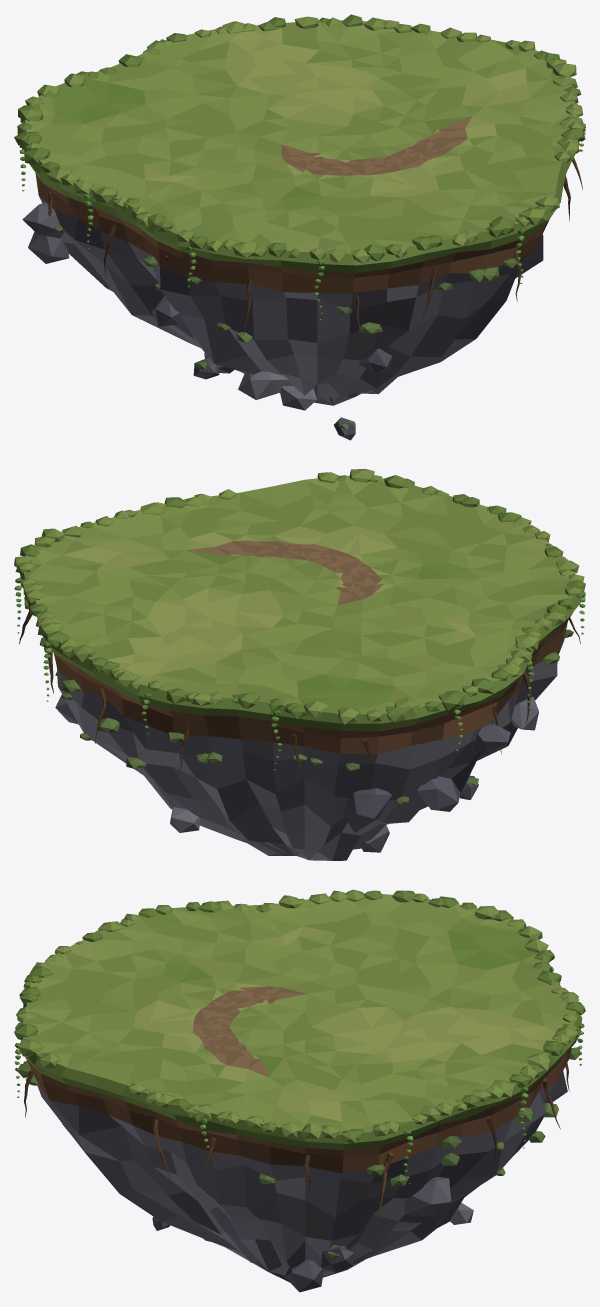
Rendered from island.glb.
3 renders of one model, top to bottom at view 1: azimuth 30°, elevation 25°; view 2: azimuth 150°, elevation 25°; view 3: azimuth 270°, elevation 25°, orthographic.
Parts seen in each view (by area): view 1: island; view 2: island; view 3: island.
Boxes of the visible parts, left/top/right/bottom form: island: left=14, top=14, right=585, bottom=440; island: left=14, top=469, right=585, bottom=860; island: left=14, top=889, right=585, bottom=1292.
Bounding box in the file's own units: 10.82 × 5.59 × 10.39.
